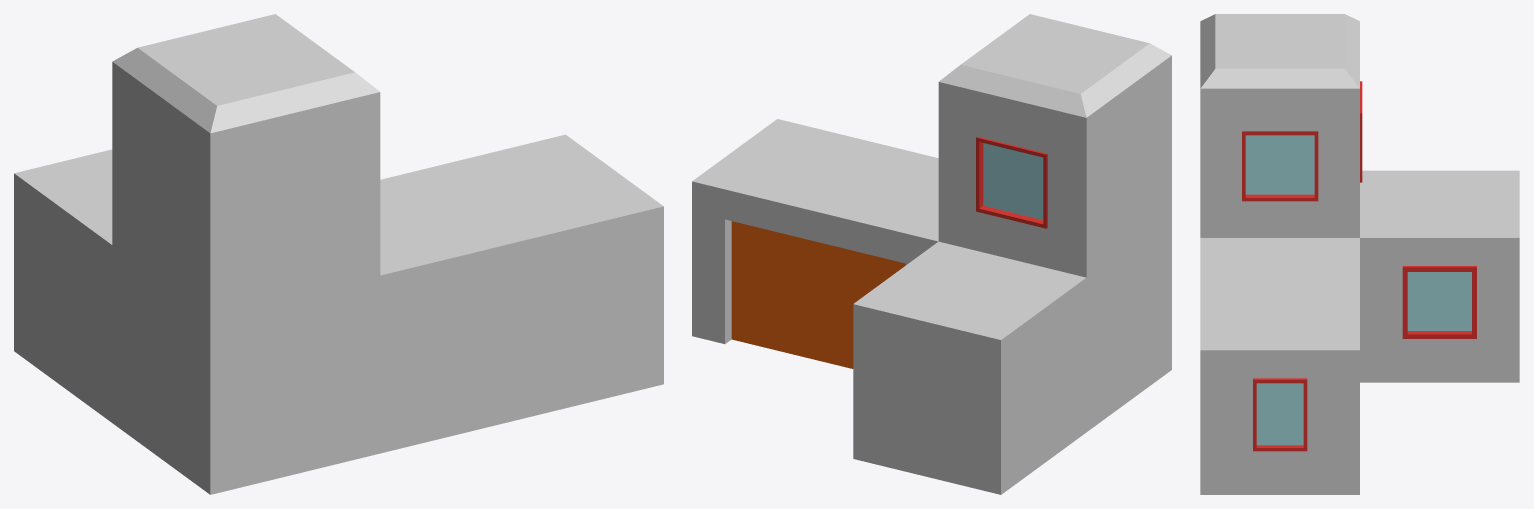
Rendered from quarter_98_b.glb.
3 views of the same model, side by side, from view 1: azimuth 30°, elevation 25°; view 2: azimuth 150°, elevation 25°; view 3: azimuth 270°, elevation 25° (orthographic). The views are drawn at different scales.
Parts seen in each view (by area): view 1: Building 75_White_0; view 2: Building 75_White_0, Building 75_Orange_0, Building 75_Blue_0, Building 75_Red_0; view 3: Building 75_White_0, Building 75_Blue_0, Building 75_Red_0.
Part boxes in pixels (x1,y1,x2,y2): Building 75_White_0: (14, 14, 663, 494); Building 75_White_0: (692, 14, 1171, 494); Building 75_Orange_0: (731, 221, 905, 368); Building 75_Blue_0: (983, 143, 1043, 219); Building 75_Red_0: (976, 136, 1047, 228); Building 75_White_0: (1200, 14, 1519, 494); Building 75_Blue_0: (1245, 135, 1471, 445); Building 75_Red_0: (1242, 81, 1476, 451).
Bounding box in the file's own units: 1.53 × 1.21 × 1.14.
